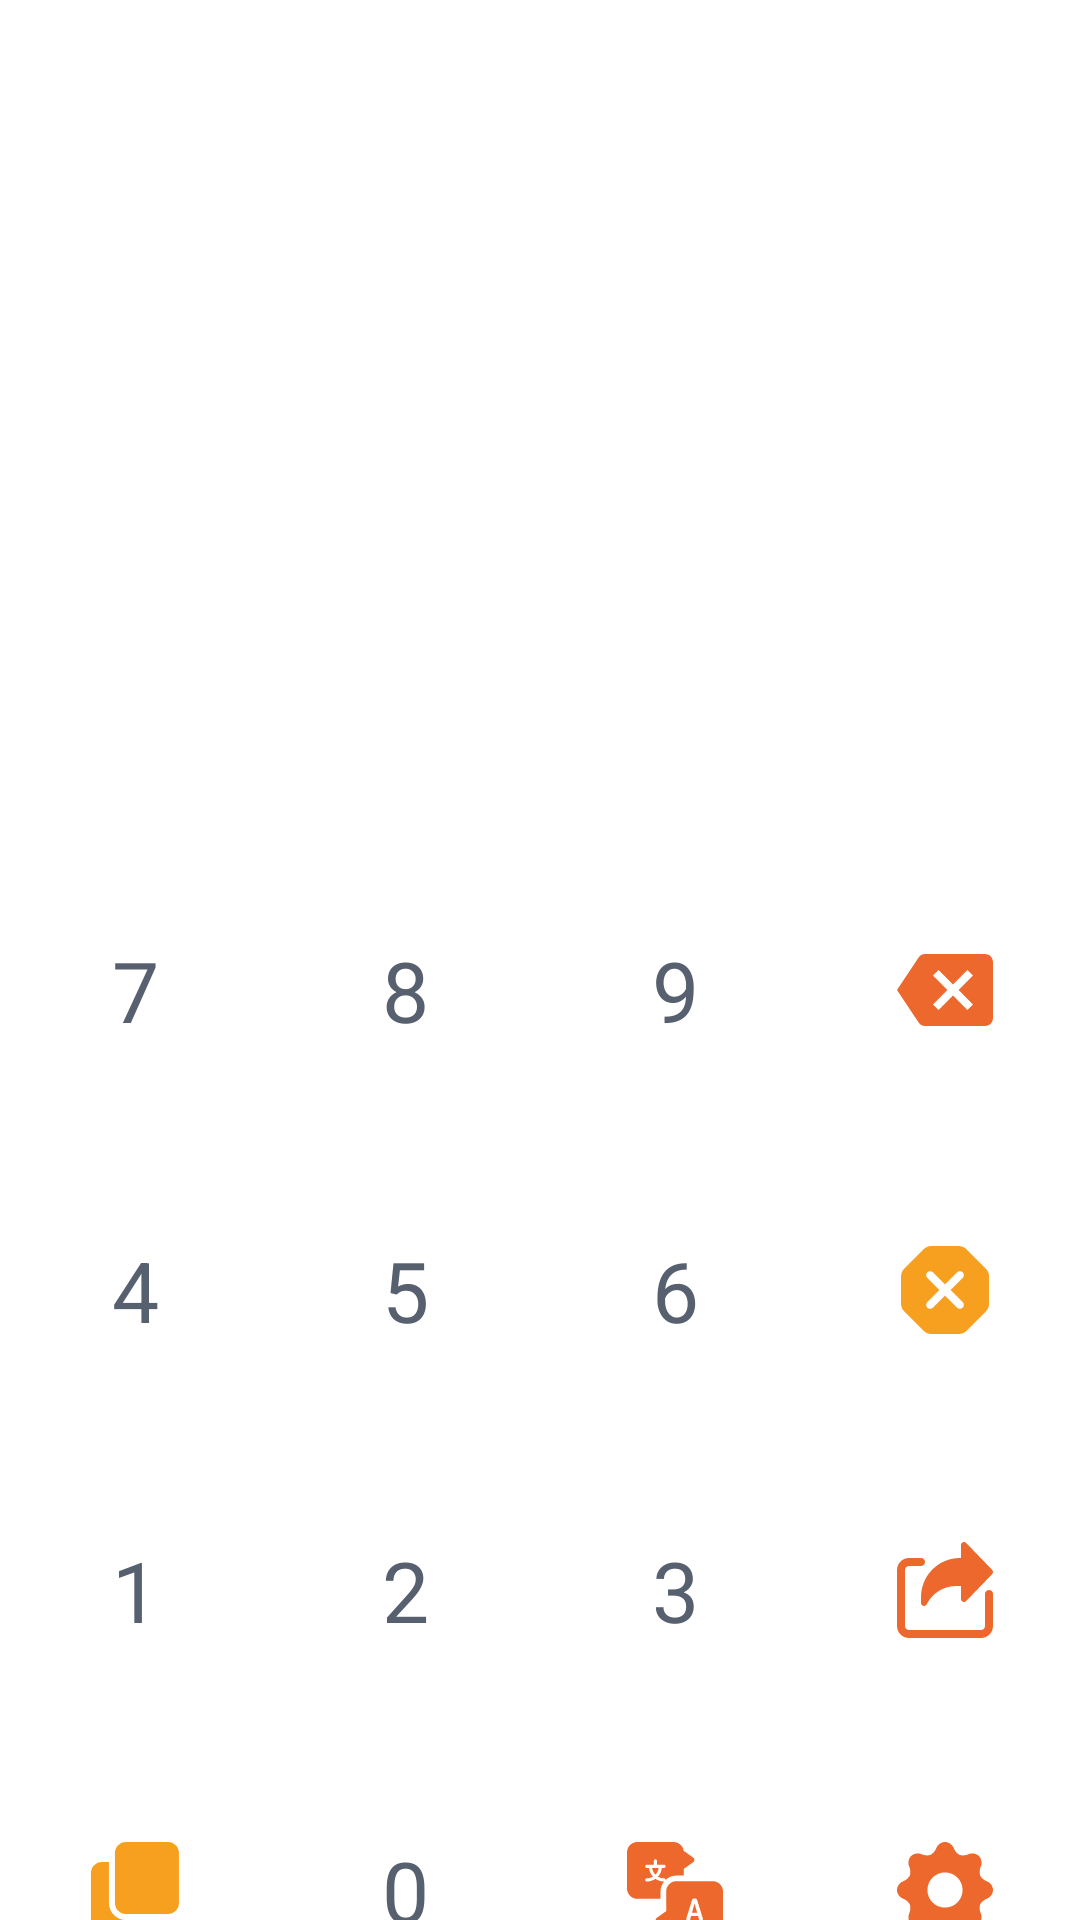

Screen size 1080 x 1920. Icon name, then its center in pixels as (x=x, y=y):
backspace arrow: (x=945, y=990)
clear: (x=945, y=1290)
share: (x=945, y=1590)
